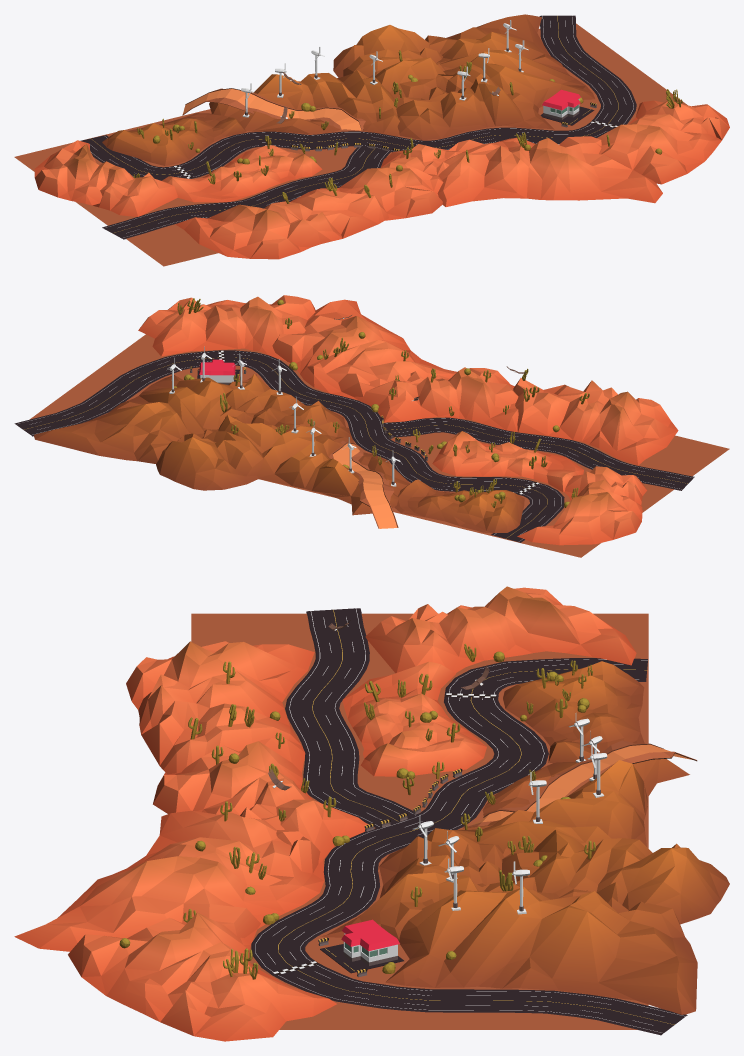
File: desert_map.glb
3 views of the same model, one above another, from view 1: azimuth 30°, elevation 25°; view 2: azimuth 150°, elevation 25°; view 3: azimuth 270°, elevation 25° (orthographic). The views are drawn at different scales.
Visible parts, largest first — view 1: Plane.001, Plane.019, Plane.012, Plane, Plane.020, Plane.018, Plane.015, Plane.006, Plane.017, Plane.021, Plane.011, Plane.005 (+4 smaller); view 2: Plane.001, Plane.020, Plane.019, Plane, Plane.012, Plane.018, Plane.011, Plane.015, Plane.021, Plane.006, Plane.008, Plane.005 (+4 smaller); view 3: Plane.001, Plane.020, Plane.019, Plane, Plane.018, Plane.012, Plane.006, Plane.008, Plane.021, Plane.011, Plane.015, Plane.005 (+4 smaller).
Boxes of the visible parts, x1,y1,x2,y2 form: Plane.001: (80,15,636,180); Plane.019: (432,136,662,206); Plane.012: (175,189,388,259); Plane: (14,23,687,266); Plane.020: (425,14,594,108); Plane.018: (597,100,729,184); Plane.015: (209,70,399,136); Plane.006: (34,140,177,216); Plane.017: (396,74,554,140); Plane.021: (333,25,453,100); Plane.011: (319,144,461,220); Plane.005: (162,145,322,202); Plane.001: (14,350,564,542); Plane.020: (34,375,248,463); Plane.019: (272,299,456,399); Plane: (29,334,729,557); Plane.012: (513,378,678,465); Plane.018: (138,295,315,363); Plane.011: (354,367,518,431); Plane.015: (257,422,409,515); Plane.021: (156,415,283,490); Plane.006: (517,466,646,545); Plane.008: (383,417,694,490); Plane.005: (432,431,583,492); Plane.001: (251,658,687,1035); Plane.020: (385,881,697,1014); Plane.019: (14,810,324,951); Plane: (191,613,648,1029); Plane.018: (68,912,336,1041); Plane.012: (126,641,314,774); Plane.006: (365,586,636,673); Plane.008: (285,608,417,827); Plane.021: (502,829,729,924); Plane.011: (153,738,367,863); Plane.015: (452,759,689,852); Plane.005: (342,661,486,776).
Bounding box in the file's own units: 13156 × 1866 × 9058.
1 material, 1 textured.
